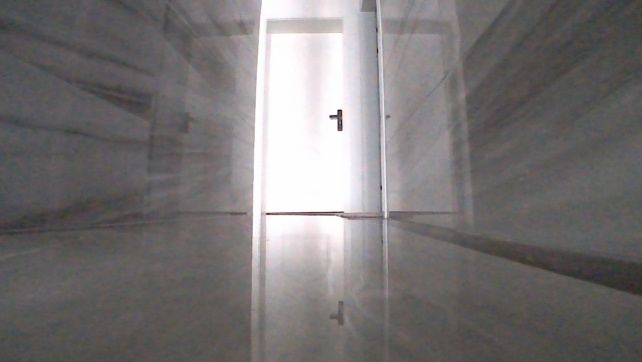door_anno: (252, 18, 352, 218)
